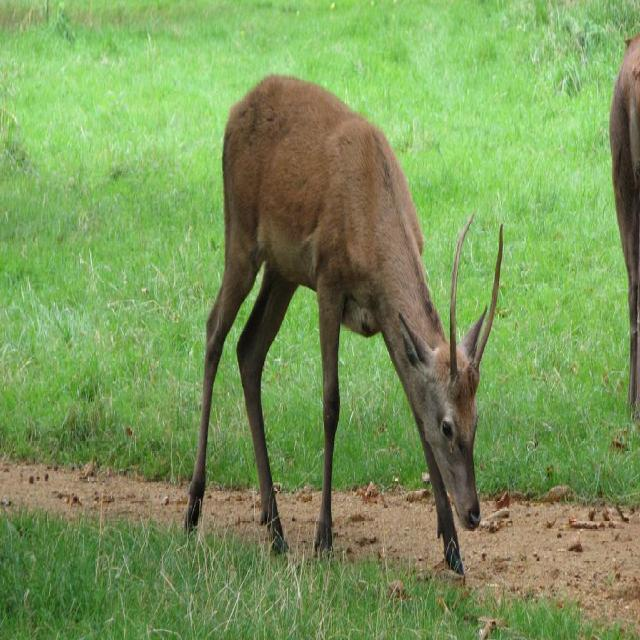Deer: (182, 62, 502, 577)
